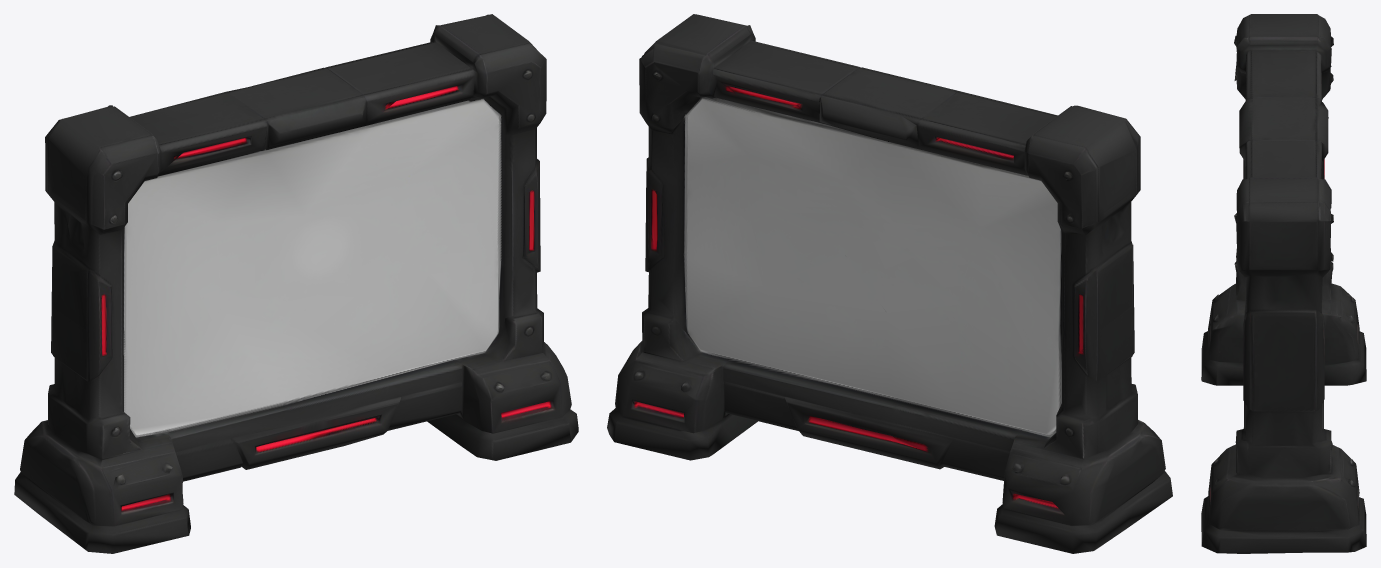
File: barrier.glb
3 renders of one model, left to right at view 1: azimuth 30°, elevation 25°; view 2: azimuth 150°, elevation 25°; view 3: azimuth 270°, elevation 25°, orthographic. The views are drawn at different scales.
Visible parts, largest first — view 1: tripo_node_a7011f42-4ae9-484b-b917-6f057d0786ba; view 2: tripo_node_a7011f42-4ae9-484b-b917-6f057d0786ba; view 3: tripo_node_a7011f42-4ae9-484b-b917-6f057d0786ba.
Part boxes in pixels (x1,y1,x2,y2): tripo_node_a7011f42-4ae9-484b-b917-6f057d0786ba: (14, 14, 578, 553); tripo_node_a7011f42-4ae9-484b-b917-6f057d0786ba: (607, 14, 1172, 553); tripo_node_a7011f42-4ae9-484b-b917-6f057d0786ba: (1201, 14, 1366, 553).
Bounding box in the file's own units: 0.9826 × 0.73 × 0.3212.
1 material, 1 textured.
